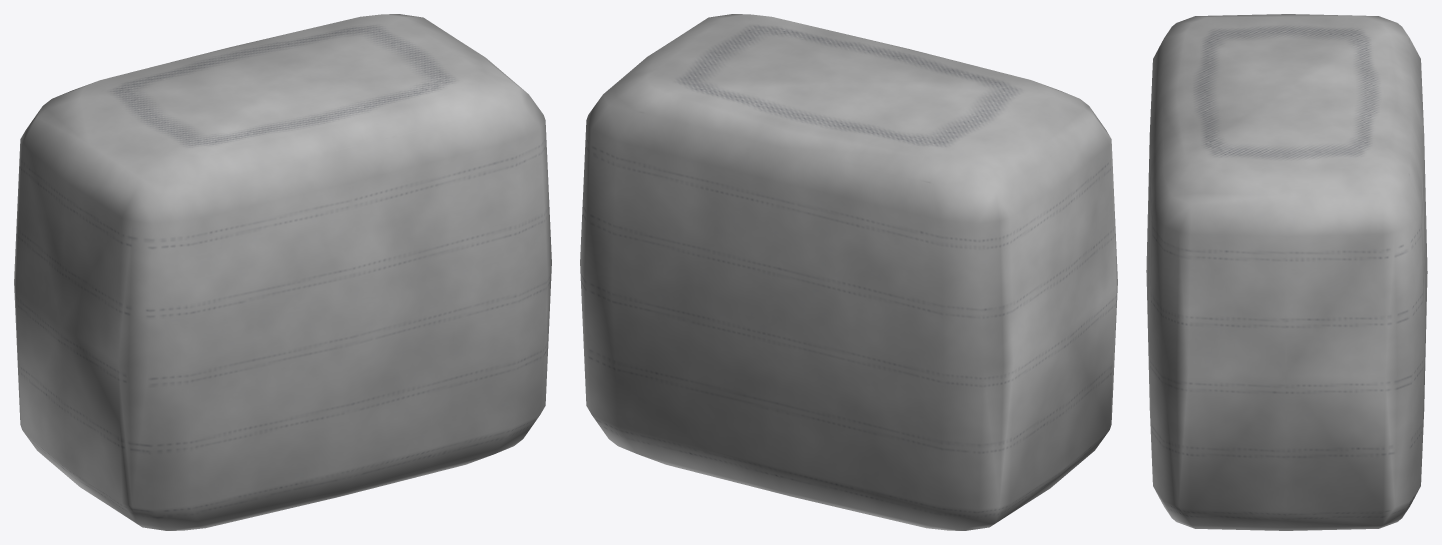
The model's file is UpperTorso_C1.fbx.
3 renders of one model, left to right at view 1: azimuth 30°, elevation 25°; view 2: azimuth 150°, elevation 25°; view 3: azimuth 270°, elevation 25°, orthographic. The views are drawn at different scales.
Parts seen in each view (by area): view 1: Civ_RemeraEstampa_UpperTorso_C1; view 2: Civ_RemeraEstampa_UpperTorso_C1; view 3: Civ_RemeraEstampa_UpperTorso_C1.
Part boxes in pixels (bbox=[...]): Civ_RemeraEstampa_UpperTorso_C1: bbox=[14, 14, 551, 530]; Civ_RemeraEstampa_UpperTorso_C1: bbox=[580, 14, 1117, 530]; Civ_RemeraEstampa_UpperTorso_C1: bbox=[1146, 14, 1427, 530].
Bounding box in the file's own units: 2.19 × 1.81 × 1.25.
